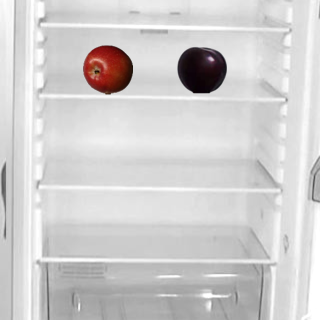Apple Braeburn: (82, 44, 132, 94)
Cherry Wax Black: (176, 44, 226, 94)
